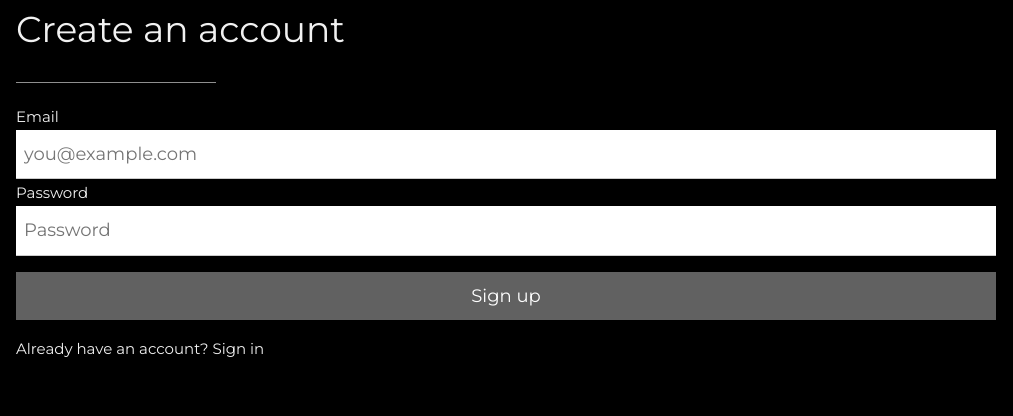
Test: Signup › shows success message after successful signup
Type "test@example.com" into the field labelled "Email" at (506, 154), box [16,130,996,179]
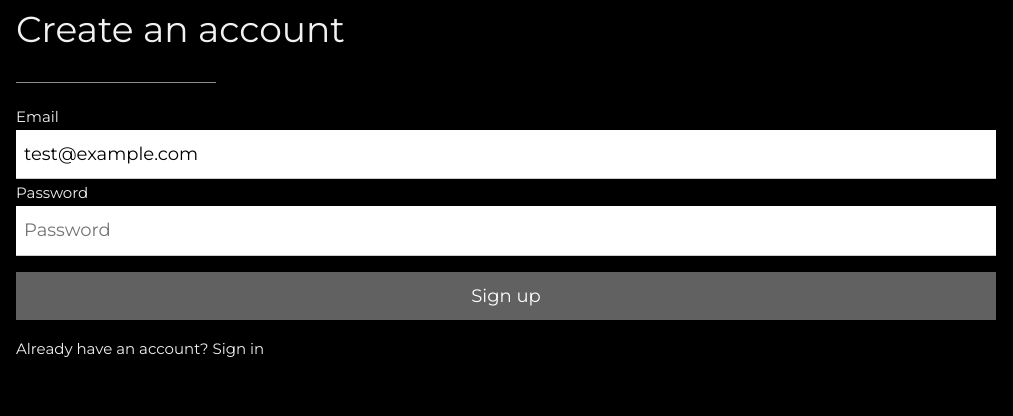
Type "password123" into the password field labelled "Password" at (506, 231), box [16,206,996,256]
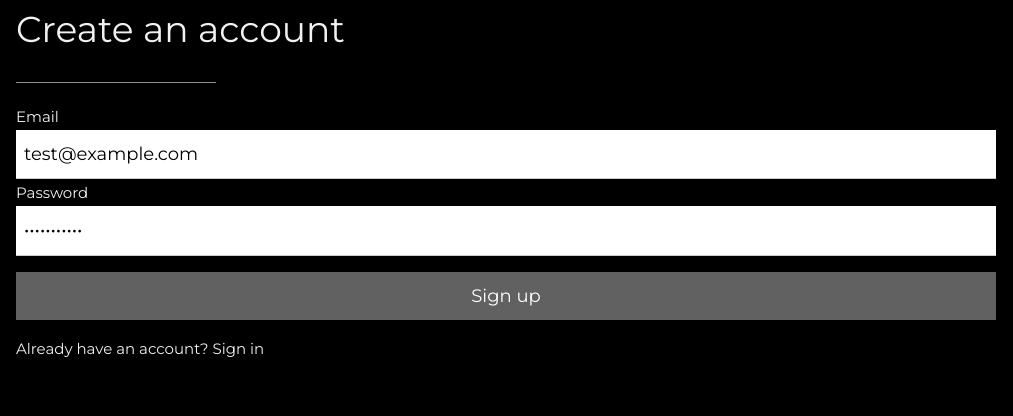
Click the button "Sign up" at (506, 296), box [16,272,996,320]
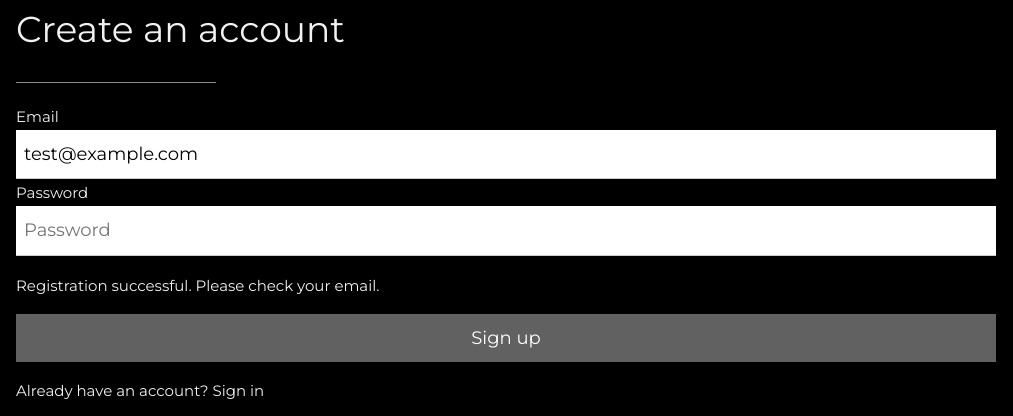
Expected: the message reads "Registration successful. Please check your email.", [16,276,380,295]
